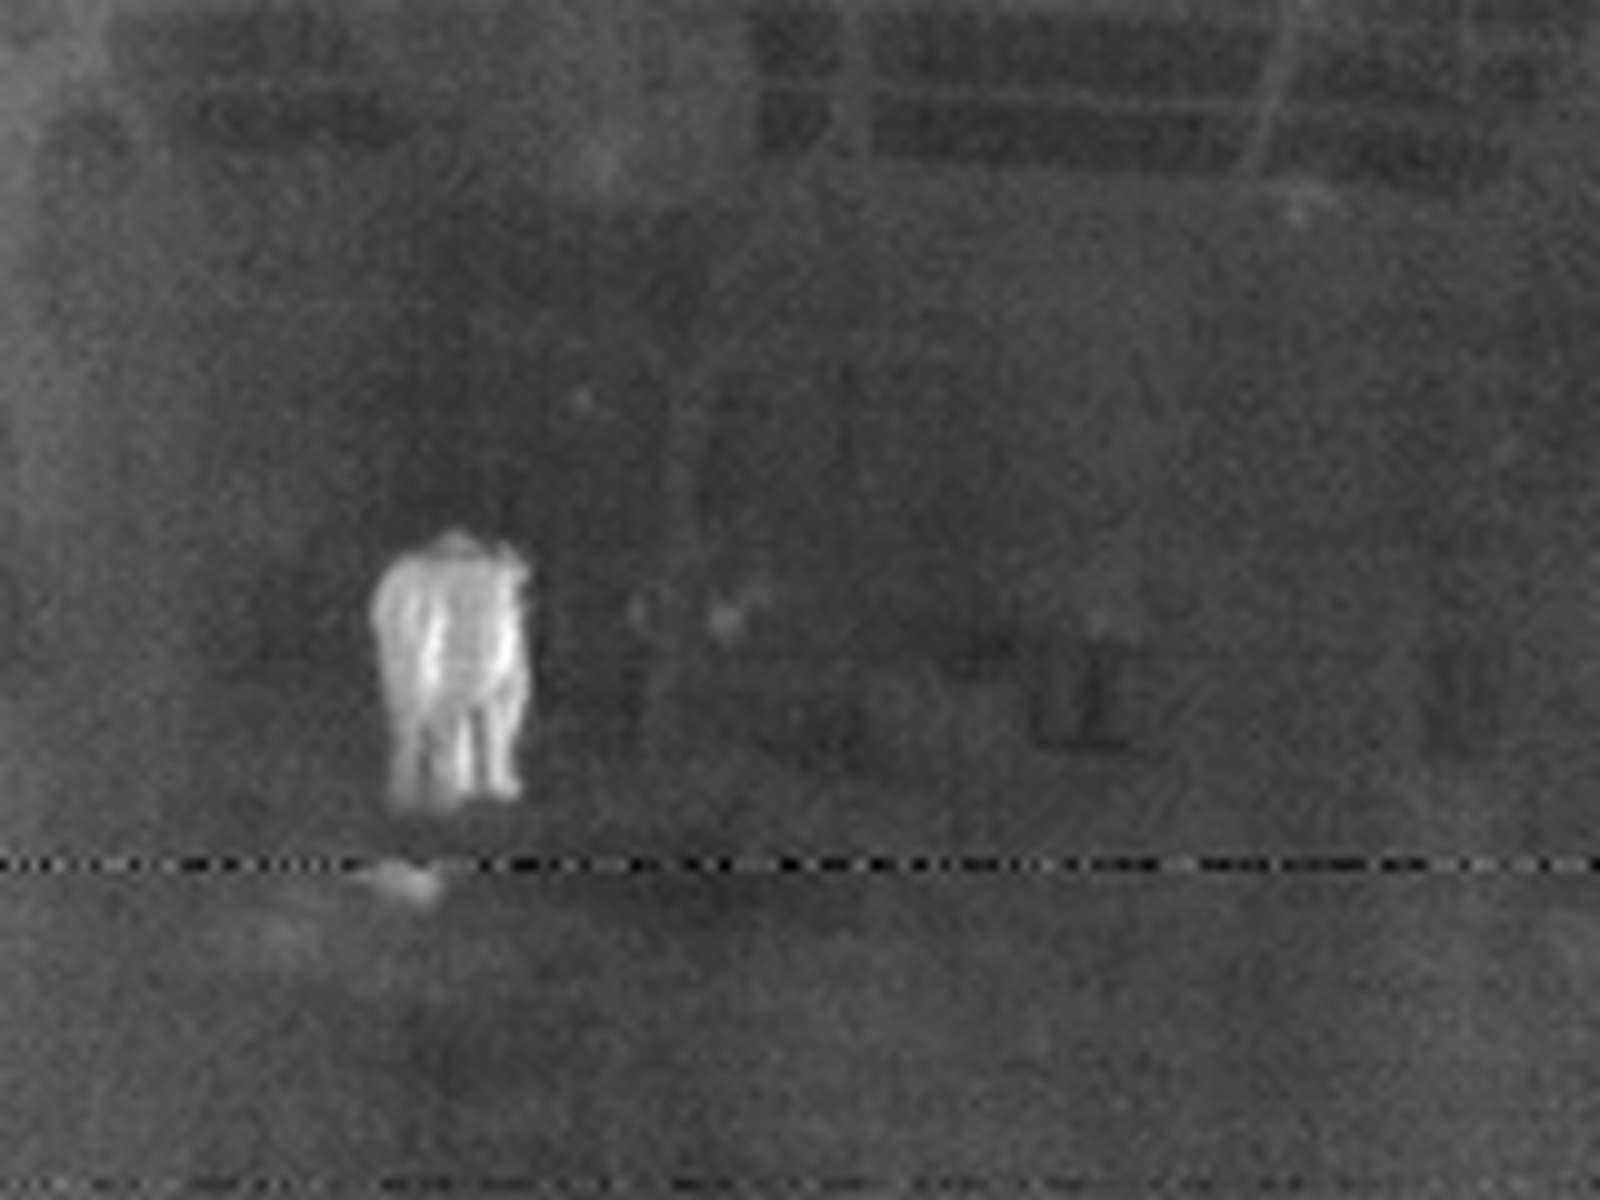elephant: (355, 502, 595, 926)
